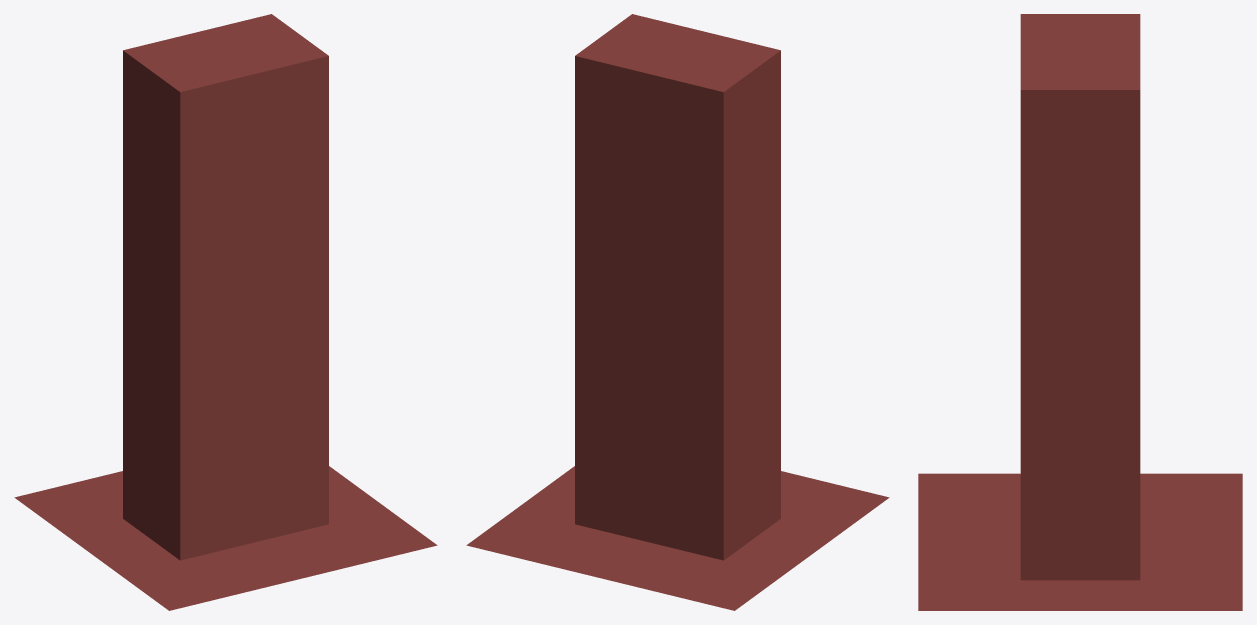
File: 9x9 SkyScraper.fbx
The picture shows the model from 3 angles, left to right: view 1: azimuth 30°, elevation 25°; view 2: azimuth 150°, elevation 25°; view 3: azimuth 270°, elevation 25°; orthographic projection. The views are drawn at different scales.
Parts seen in each view (by area): view 1: 9x9 SkyScraper; view 2: 9x9 SkyScraper; view 3: 9x9 SkyScraper.
Boxes of the visible parts, box(x1,y1,x2,y2) form: 9x9 SkyScraper: box(14, 14, 437, 610); 9x9 SkyScraper: box(466, 14, 889, 610); 9x9 SkyScraper: box(918, 14, 1242, 610).
Size of the model in its own units: 9 by 15 by 9.
